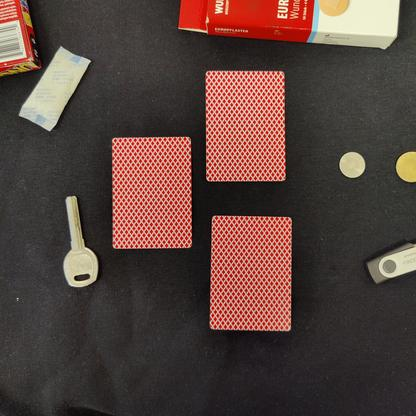card: (107, 133, 198, 252), (199, 66, 290, 185), (204, 213, 295, 332)
